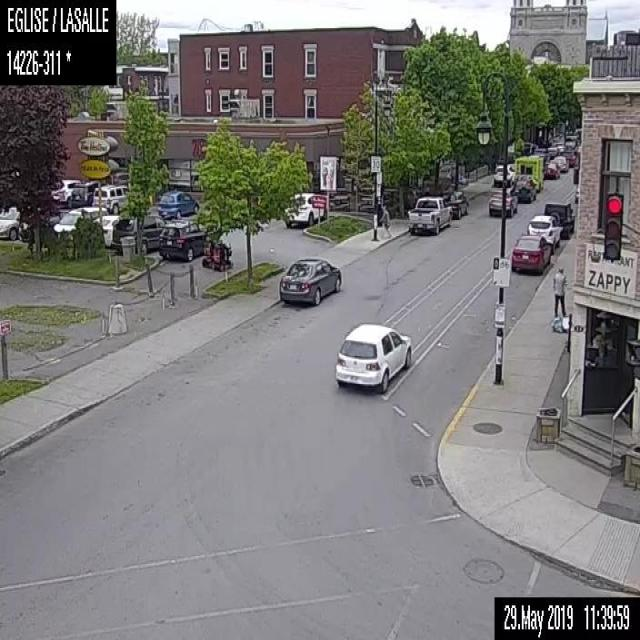pedestrian: (551, 264, 567, 318), (378, 205, 391, 238)
vehicle: (333, 322, 412, 394), (278, 256, 340, 305), (110, 213, 164, 254), (158, 220, 214, 259), (404, 194, 452, 232), (52, 206, 107, 236), (509, 234, 551, 273), (286, 192, 325, 226), (156, 189, 198, 219), (526, 213, 562, 247), (544, 200, 574, 240), (513, 153, 543, 192), (91, 182, 129, 212), (91, 213, 121, 246), (487, 185, 517, 216), (53, 178, 82, 207), (70, 180, 101, 207), (442, 188, 468, 220), (510, 178, 536, 204), (213, 236, 232, 269), (0, 206, 19, 238), (200, 232, 216, 266), (491, 162, 515, 182), (542, 162, 560, 181), (550, 155, 568, 172)
